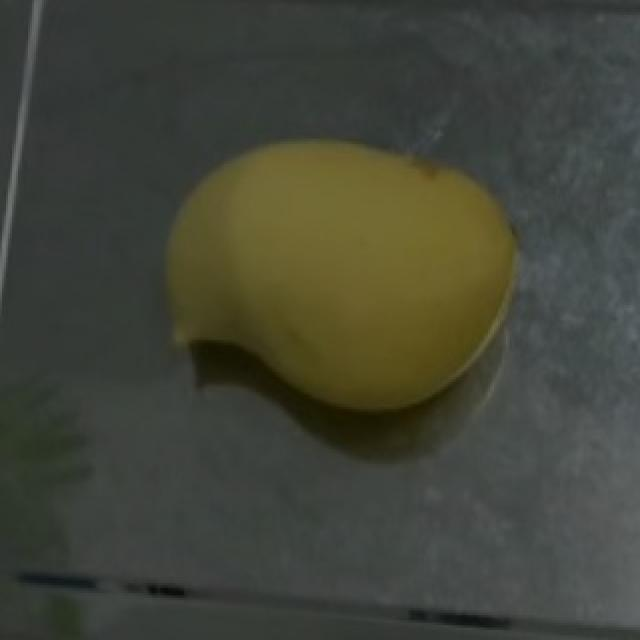fruit: (142, 109, 556, 442)
